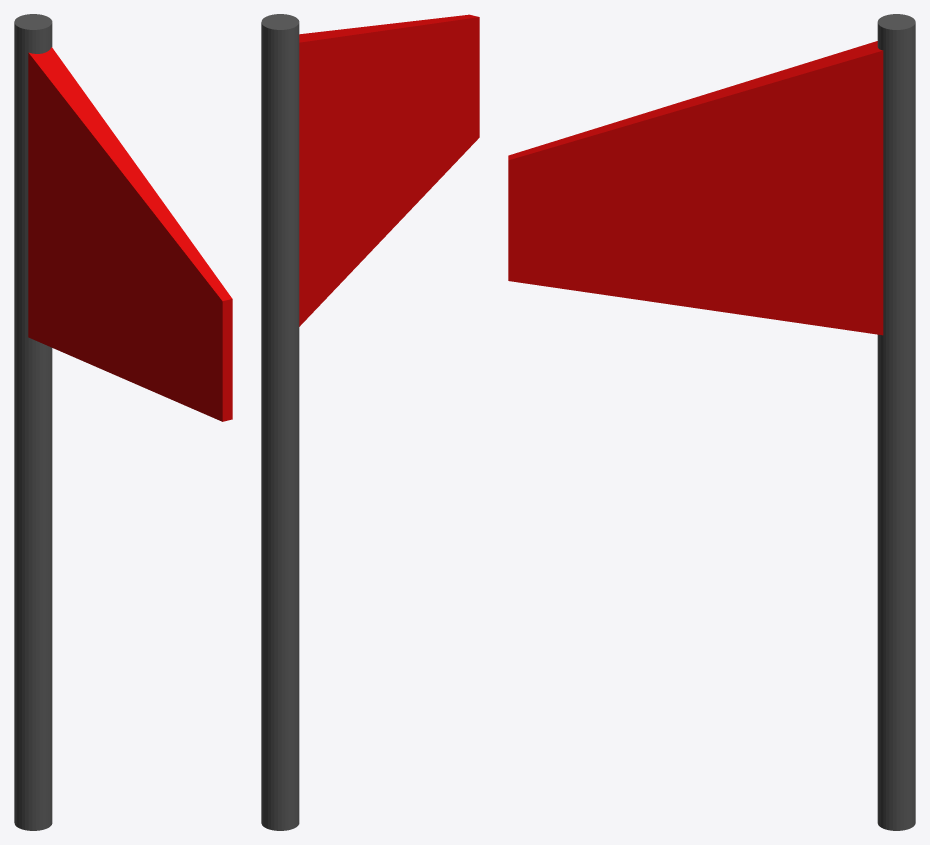
Rendered from flag.fbx.
3 renders of one model, left to right at view 1: azimuth 30°, elevation 25°; view 2: azimuth 150°, elevation 25°; view 3: azimuth 270°, elevation 25°, orthographic.
Parts seen in each view (by area): view 1: Cube, Cylinder; view 2: Cube, Cylinder; view 3: Cube, Cylinder.
Part boxes in pixels (bbox=[...]): Cube: bbox=[28, 47, 232, 421]; Cylinder: bbox=[14, 14, 52, 830]; Cube: bbox=[299, 14, 479, 326]; Cylinder: bbox=[261, 14, 299, 830]; Cube: bbox=[508, 41, 883, 335]; Cylinder: bbox=[877, 14, 915, 830].
Size of the model in its own units: 57.06 by 1328 by 612.
